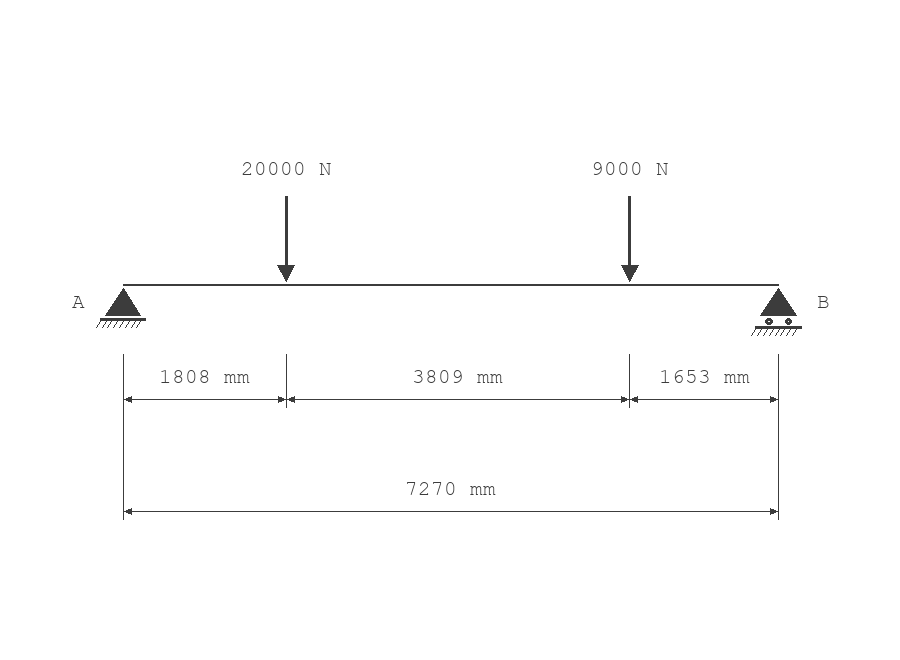pin_support: (96, 288, 146, 328)
point_load: (277, 196, 295, 282), (621, 196, 639, 282)
roller_support: (751, 288, 802, 336)
